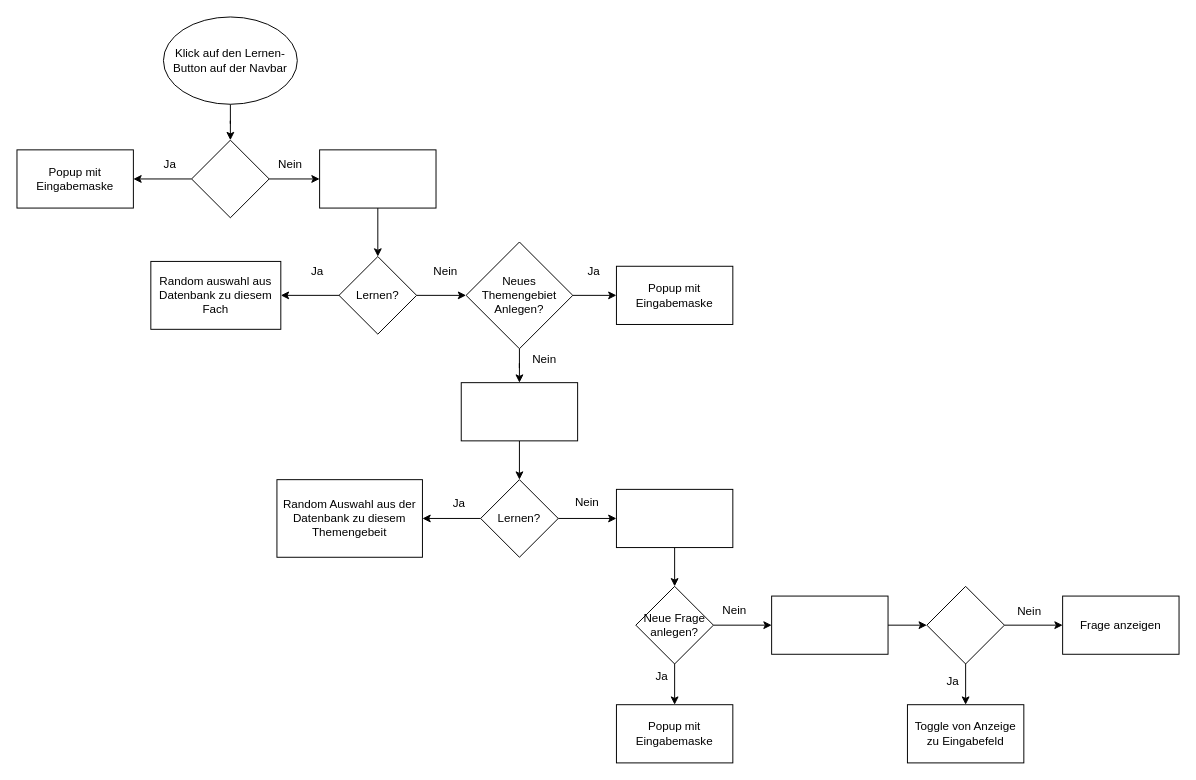
Image size: 1196x780. Some labels were removed from this diagram. The shapes that lost their labels are listed below. From the top down, each one's centre as x and y in pixels, then its label:
At [230,178]: "Neues Fach anlegen?".
At [377,178]: "Fach Auswählen".
At [519,411]: "Themengebiete ansehen".
At [674,518]: "Fragen zu diesem Themengebiet ansehen".
At [829,624]: "Frage Auswählen".
At [965,624]: "Frage bearbeiten?".
